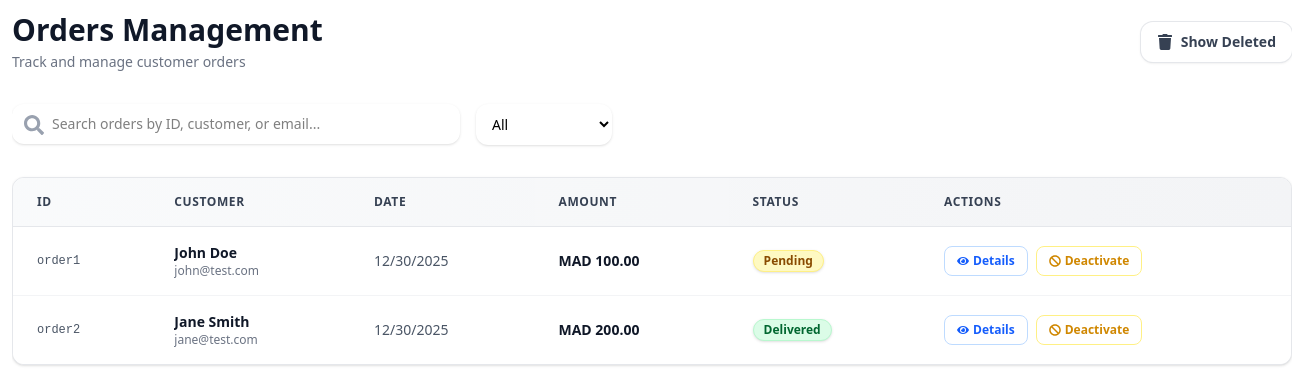
Test: AdminOrders › searches orders by customer name
This screenshot has width=1304, height=383.
In the field with placeholder "Search orders by ID, customer, or email...": (236, 124) [12,104,460,144], type "John"
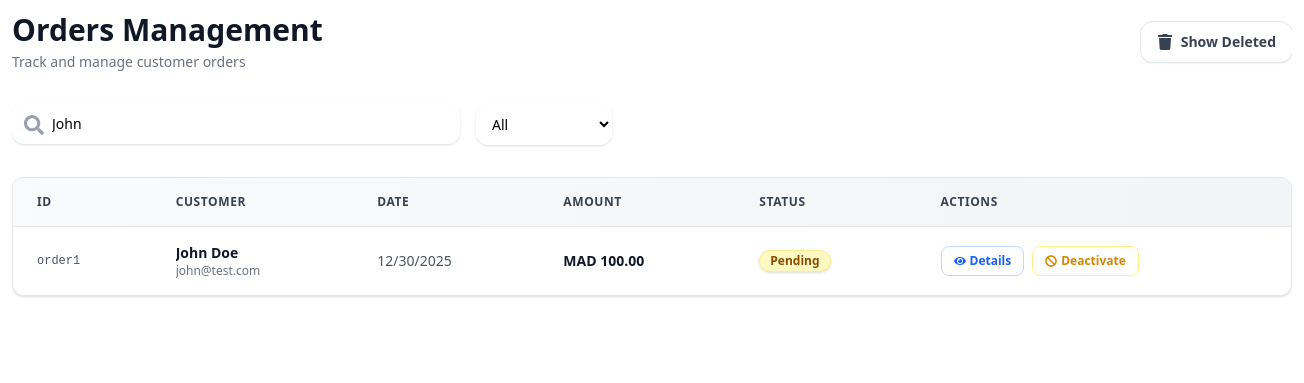
Check: the text "John Doe" is shown, box [176,243,238,262]
Check: the text "Jane Smith" is gone
